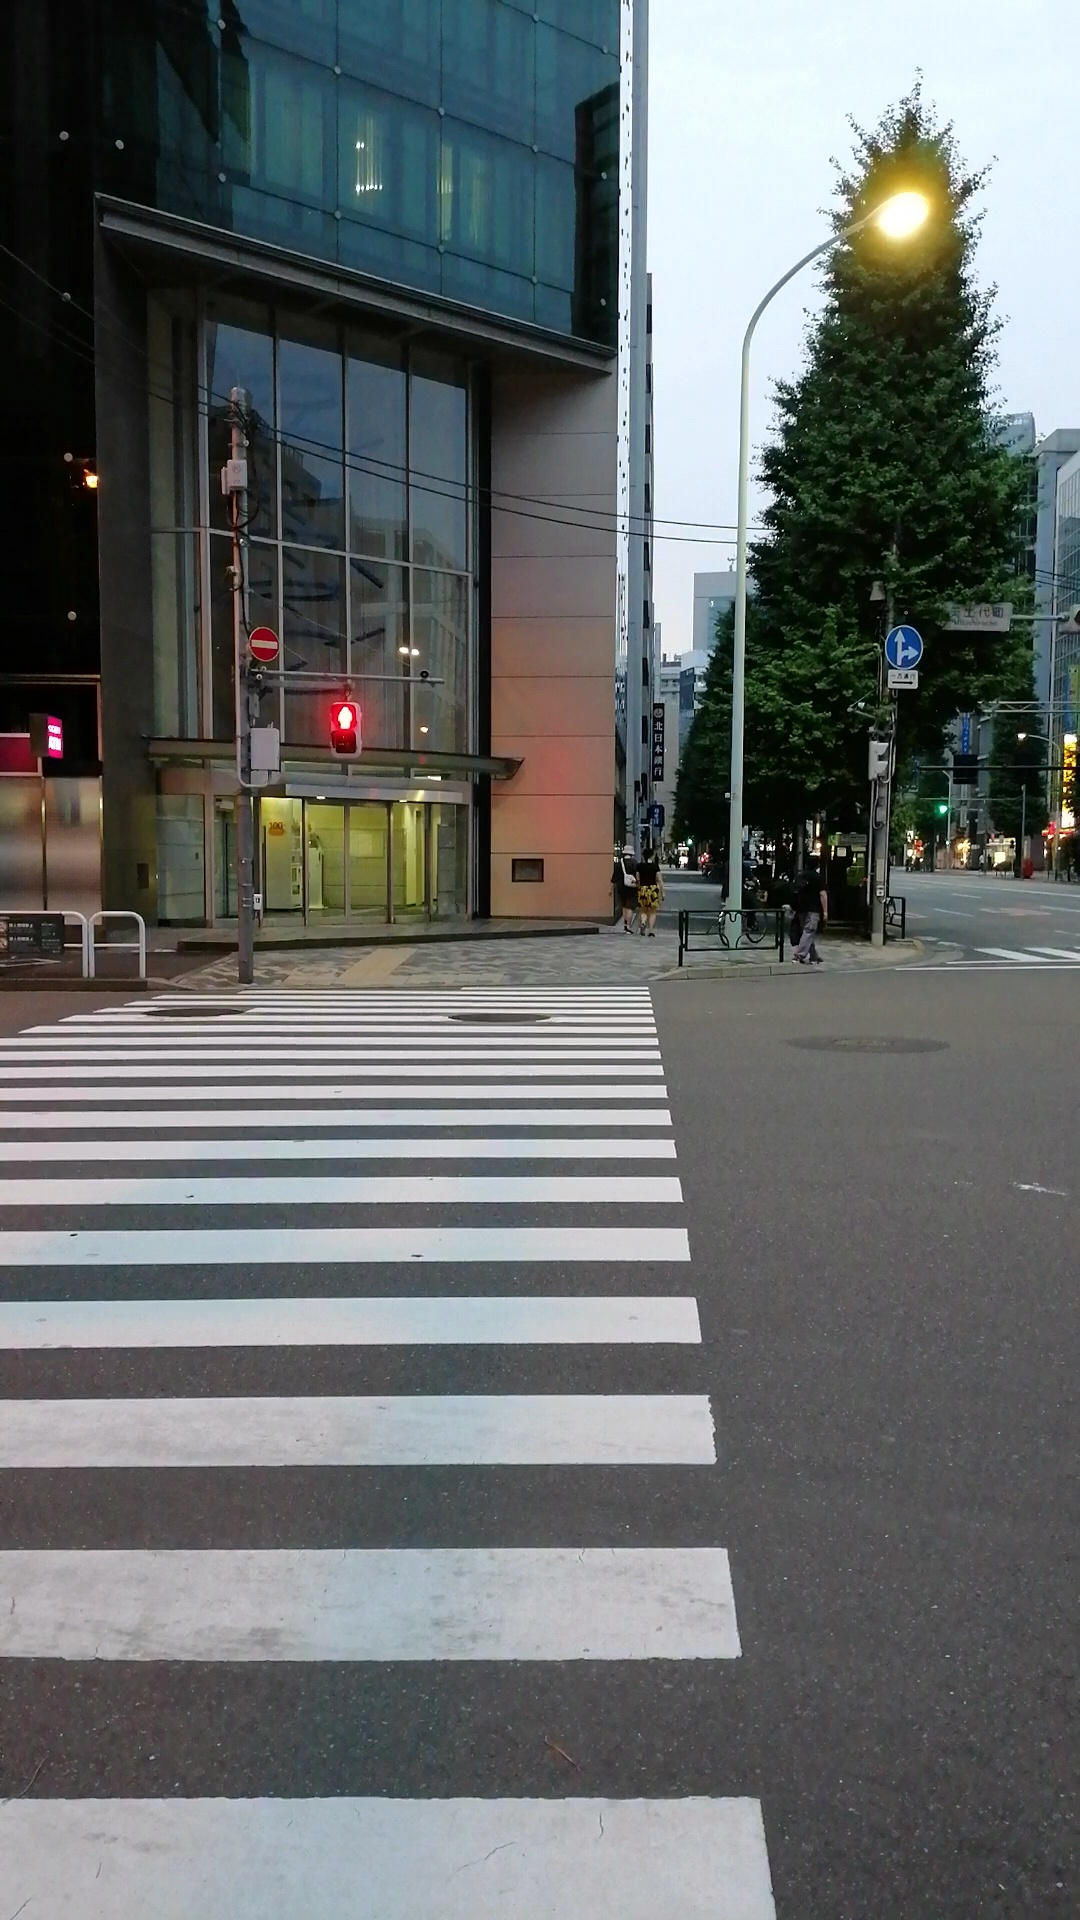red: (330, 702, 363, 758)
